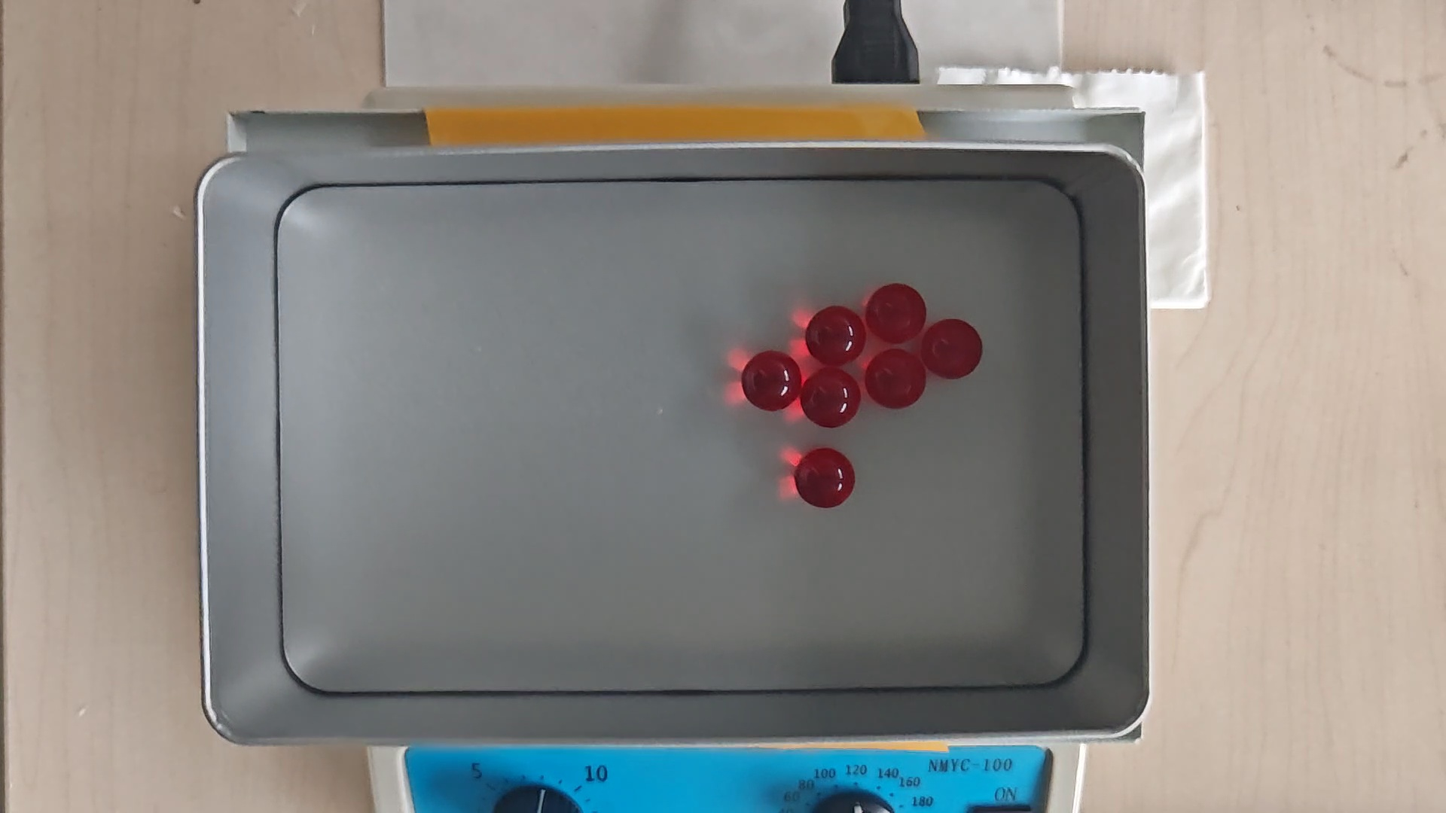ball: (743, 349, 801, 412), (806, 304, 865, 365), (867, 349, 926, 410), (796, 447, 855, 507), (867, 283, 926, 343), (924, 318, 982, 379), (803, 368, 859, 429)
container: (273, 178, 1084, 692)
